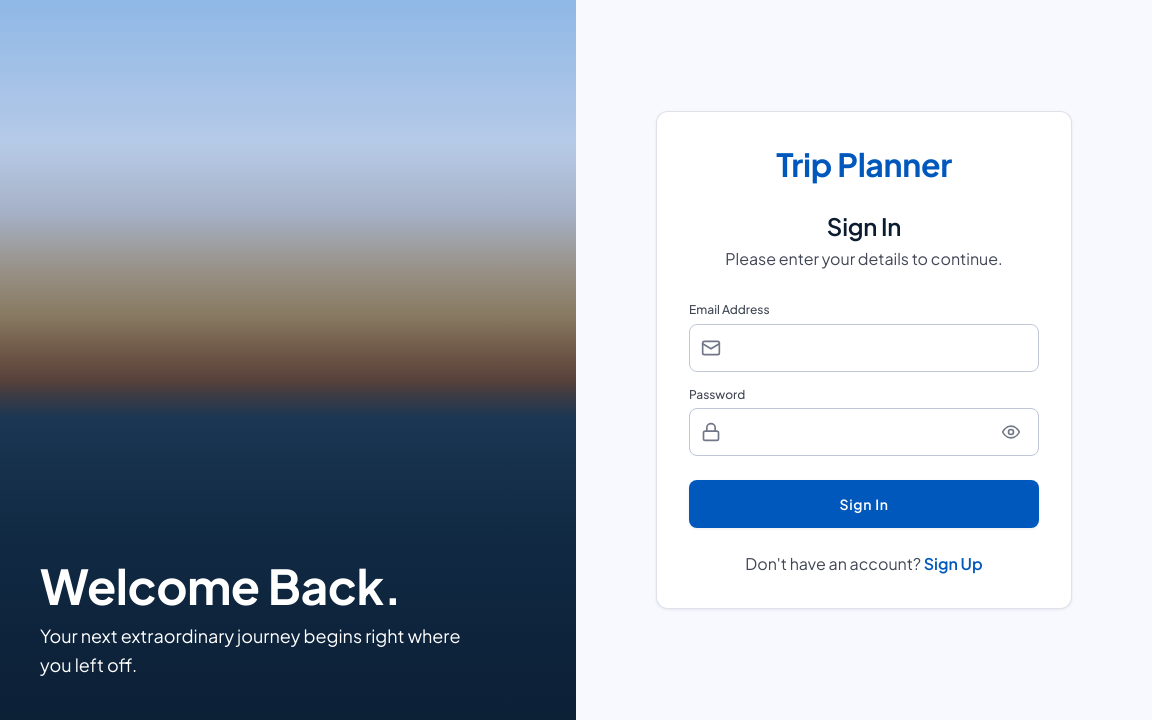
Test case: LoginPage › shows the distinct not-verified message when the account is unverified
Type "user@example.com" into the field labelled "Email Address" at (864, 348), box [689, 324, 1039, 372]
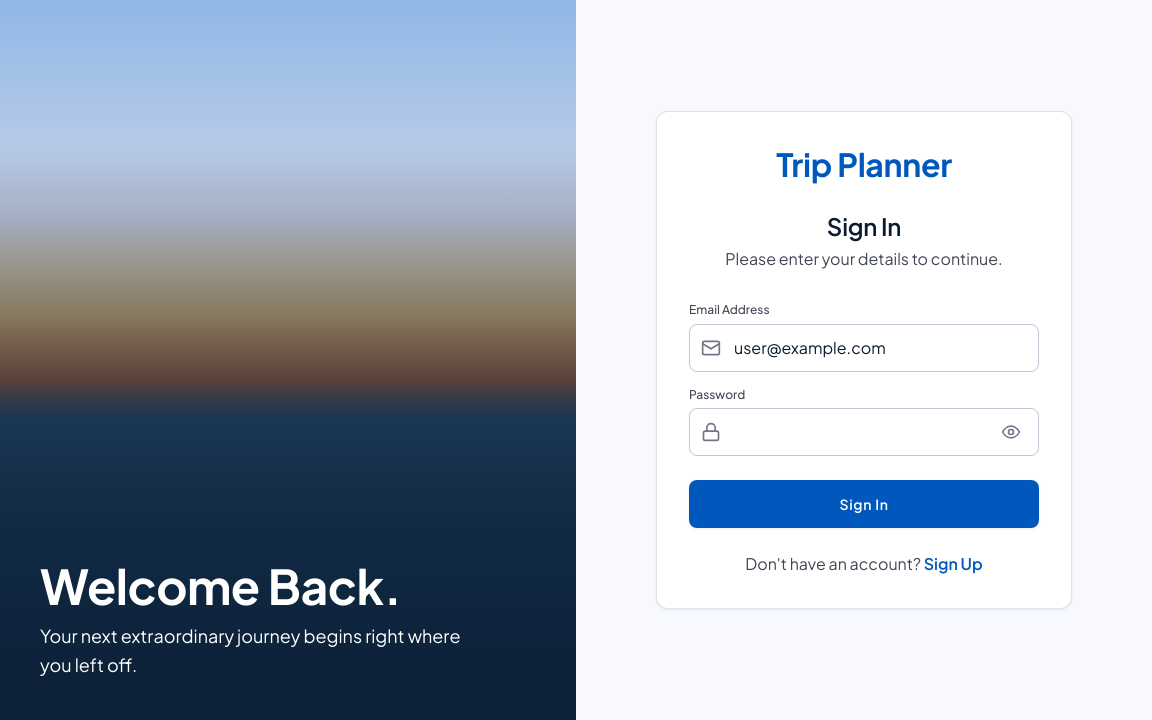
Type "password123" into the password field labelled "Password" at (864, 432), box [689, 408, 1039, 456]
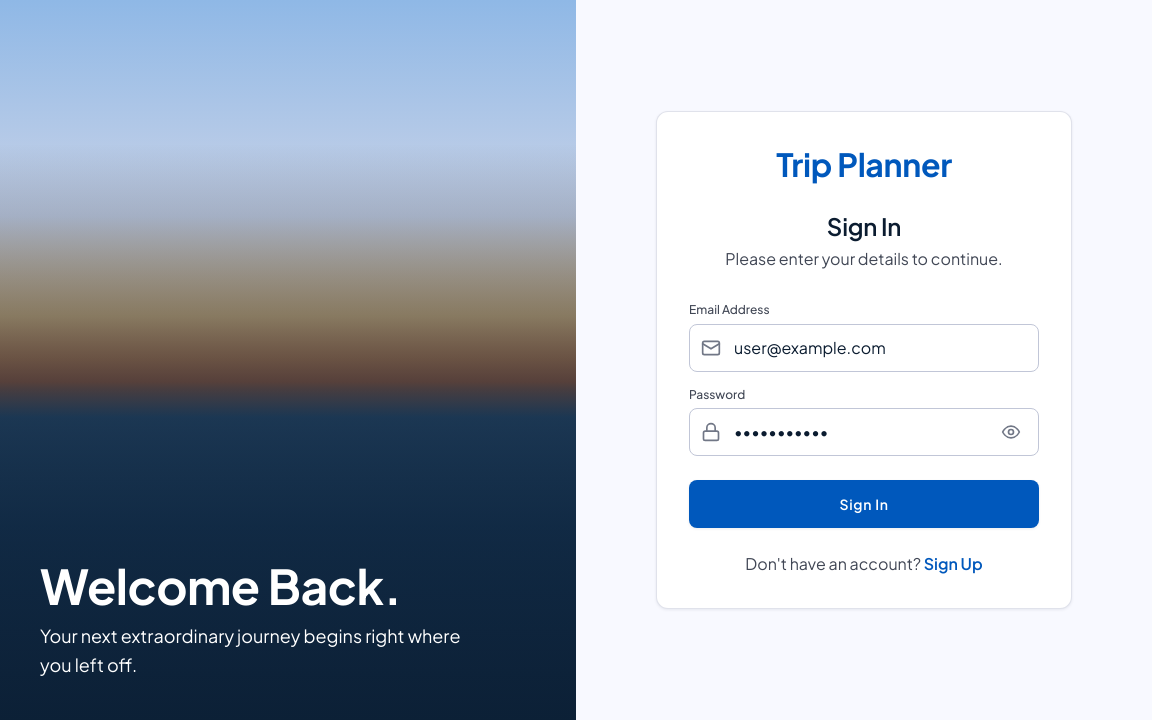
Click the button "Sign In" at (864, 504), box [689, 480, 1039, 528]
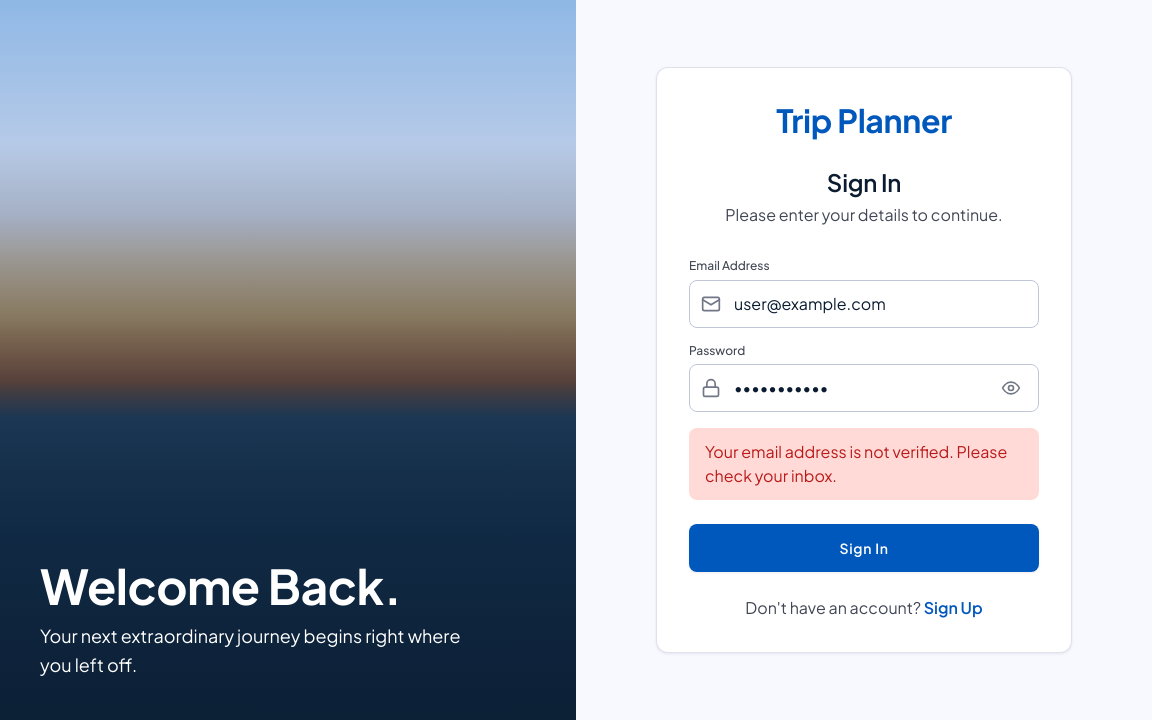
Check: the heading "Sign In" is shown, box [827, 167, 901, 197]
Check: the message reads "Your email address is not verified. Please check your inbox.", box [705, 441, 1007, 486]
